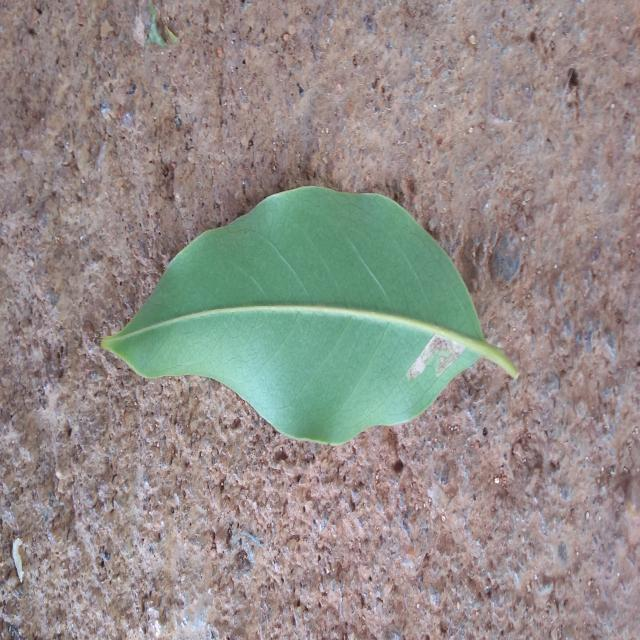sampige: (102, 187, 516, 444)
